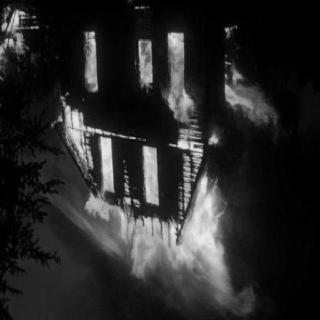Fire: (55, 18, 282, 316), (1, 7, 43, 89)
